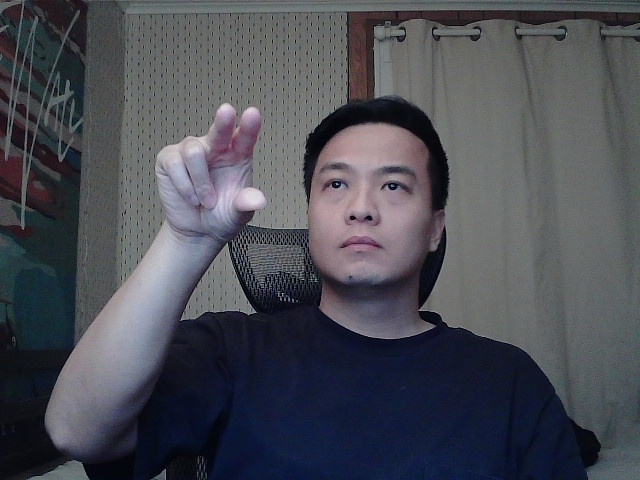No: (143, 98, 279, 245)
